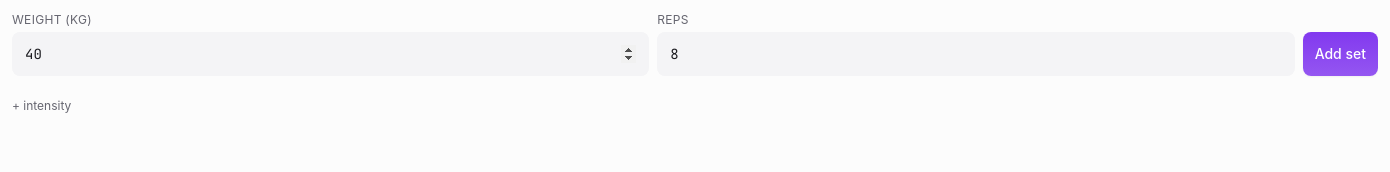
Scenario: AddSetInline — hold vs reps flow › keeps values and announces failed writes, then allows an explicit retry
The width and height of the screenshot is (1390, 172).
Click the button "Add set".
click(1340, 54)  # box [1303,32,1378,76]
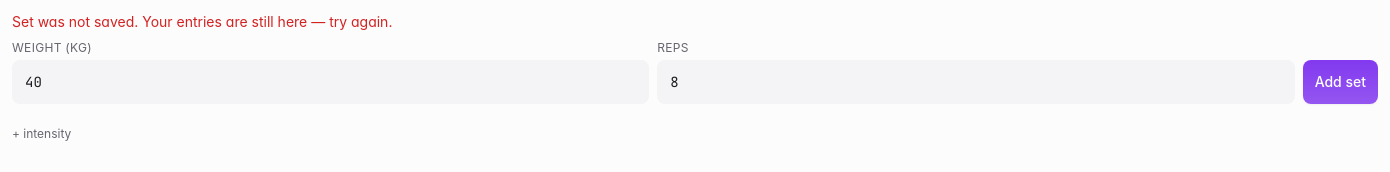
Expected: the number field labelled "Reps" holds "8", [657,60,1295,104]
Now the message reads "Set was not saved. Your entries are still here — try again.", box [12,13,392,30]
Click the button "Add set".
click(1340, 82)  # box [1303,60,1378,104]
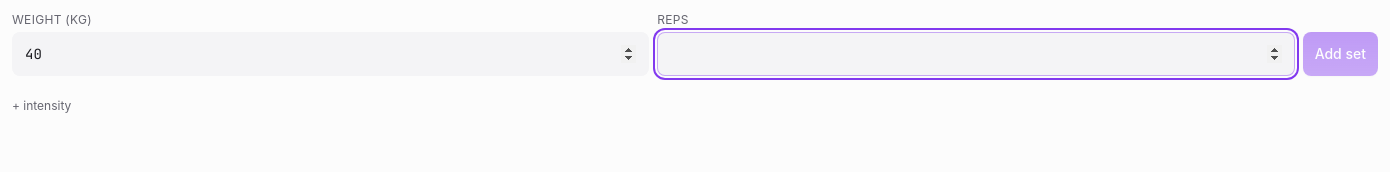
Now the number field labelled "Reps" is empty, box [657,32,1295,76]
Now the message "Set was not saved. Your entries are still here — try again." is gone
